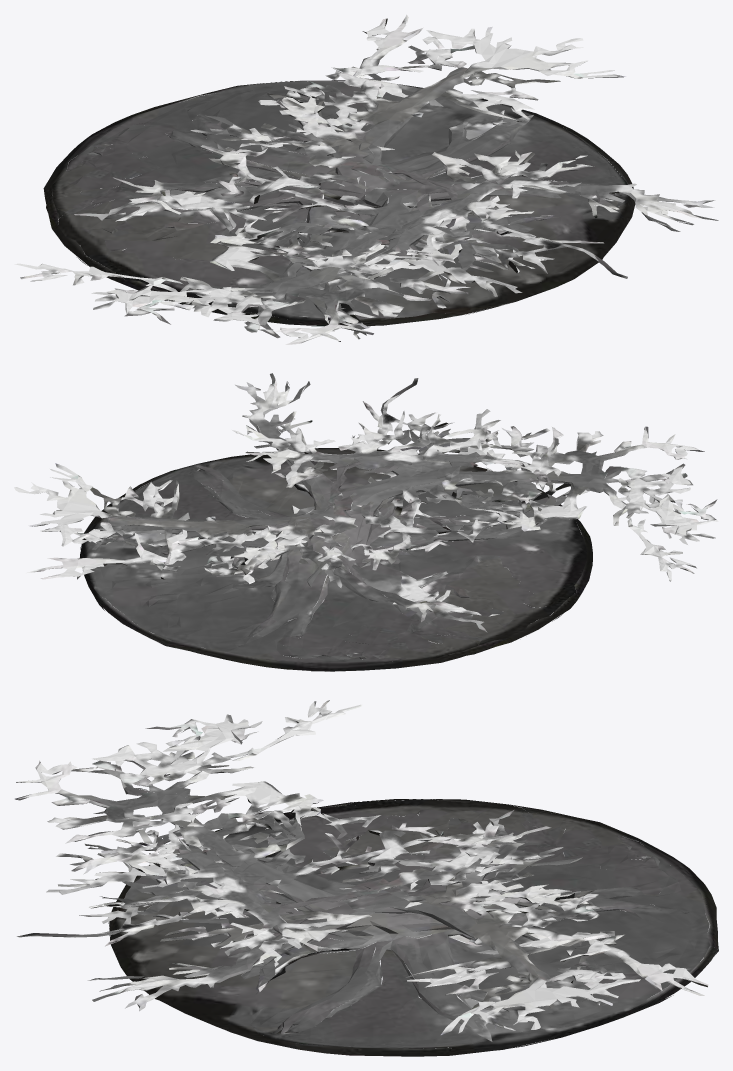
The model's file is wt-wasteland-ash-flats.glb.
3 renders of one model, top to bottom at view 1: azimuth 30°, elevation 25°; view 2: azimuth 150°, elevation 25°; view 3: azimuth 270°, elevation 25°, orthographic. The views are drawn at different scales.
Visible parts, largest first — view 1: tmpc7piemyw.ply; view 2: tmpc7piemyw.ply; view 3: tmpc7piemyw.ply.
Boxes of the visible parts, x1=… form: tmpc7piemyw.ply: x1=14, y1=14, x2=718, y2=344; tmpc7piemyw.ply: x1=14, y1=373, x2=718, y2=671; tmpc7piemyw.ply: x1=15, y1=700, x2=718, y2=1056.
Bounding box in the file's own units: 5 × 0.39 × 4.42.
1 material, 1 textured.
